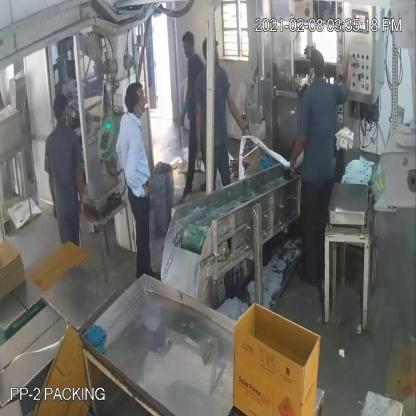glove: (177, 83, 193, 131)
no_glove: (69, 150, 98, 220), (121, 137, 150, 204), (337, 48, 359, 122), (218, 82, 246, 138), (288, 120, 314, 178), (190, 97, 208, 179)
